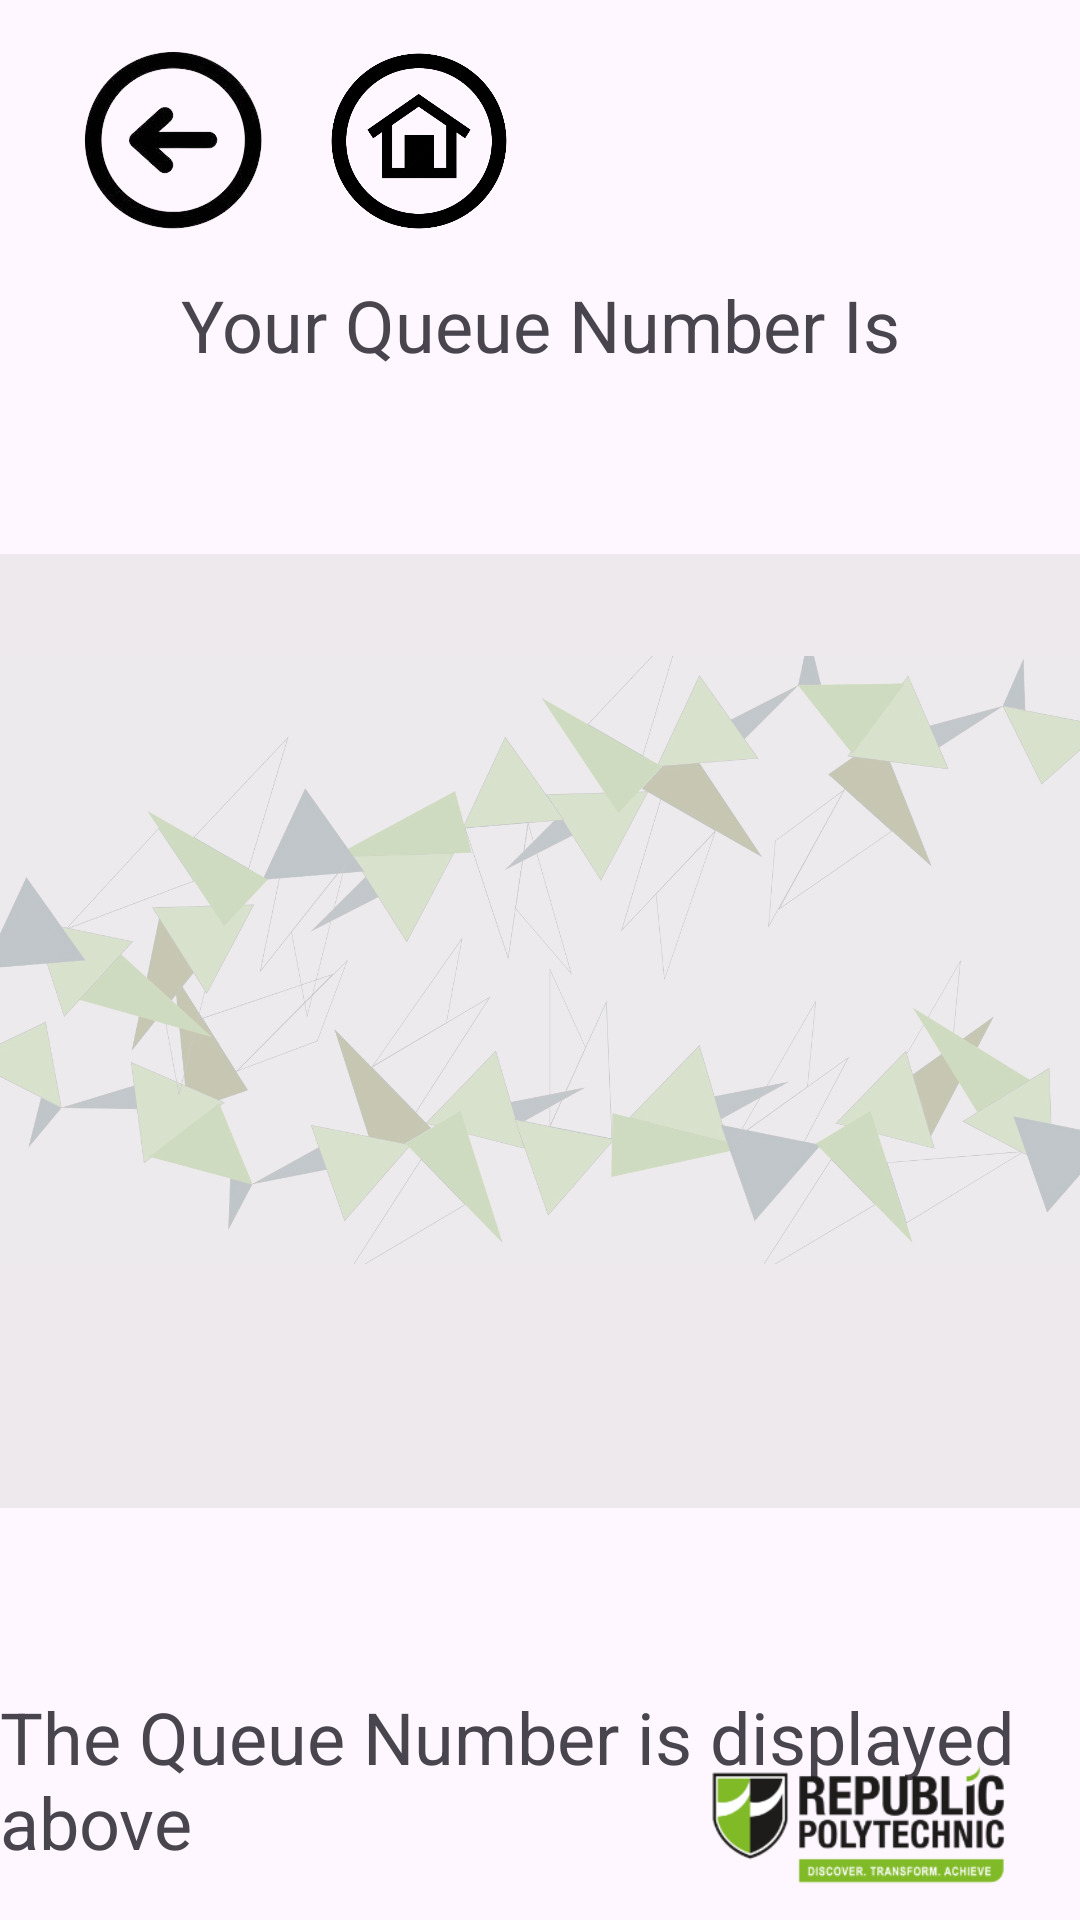

Point at icon controls on the screen. Image size 1080 × 1920, points as [x,y].
back: [173,140]
Home Button: [419,141]
